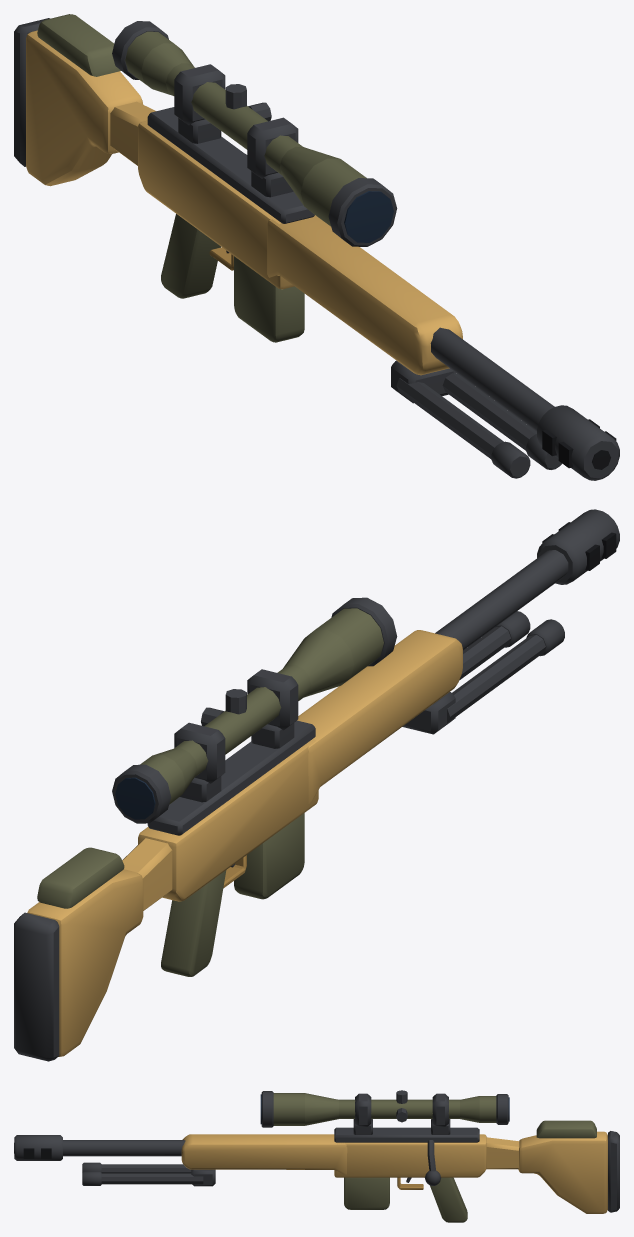
File: sniper_rifle.glb
3 views of the same model, one above another, from view 1: azimuth 30°, elevation 25°; view 2: azimuth 150°, elevation 25°; view 3: azimuth 270°, elevation 25° (orthographic). The views are drawn at different scales.
Visible parts, largest first — view 1: sniper_body, sniper_metal, sniper_scope, sniper_magazine; view 2: sniper_body, sniper_metal, sniper_scope, sniper_magazine; view 3: sniper_body, sniper_metal, sniper_scope, sniper_magazine.
Part boxes in pixels (x1,y1,x2,y2): sniper_body: [26, 14, 462, 375]; sniper_metal: [14, 18, 619, 480]; sniper_scope: [112, 21, 397, 246]; sniper_magazine: [234, 256, 304, 342]; sniper_body: [27, 630, 462, 1056]; sniper_metal: [14, 509, 619, 1061]; sniper_scope: [112, 597, 397, 823]; sniper_magazine: [234, 813, 304, 899]; sniper_body: [181, 1120, 607, 1222]; sniper_metal: [14, 1127, 619, 1212]; sniper_scope: [260, 1090, 509, 1134]; sniper_magazine: [344, 1177, 389, 1209].
Bounding box in the file's own units: 0.1142 × 0.289 × 1.25.
